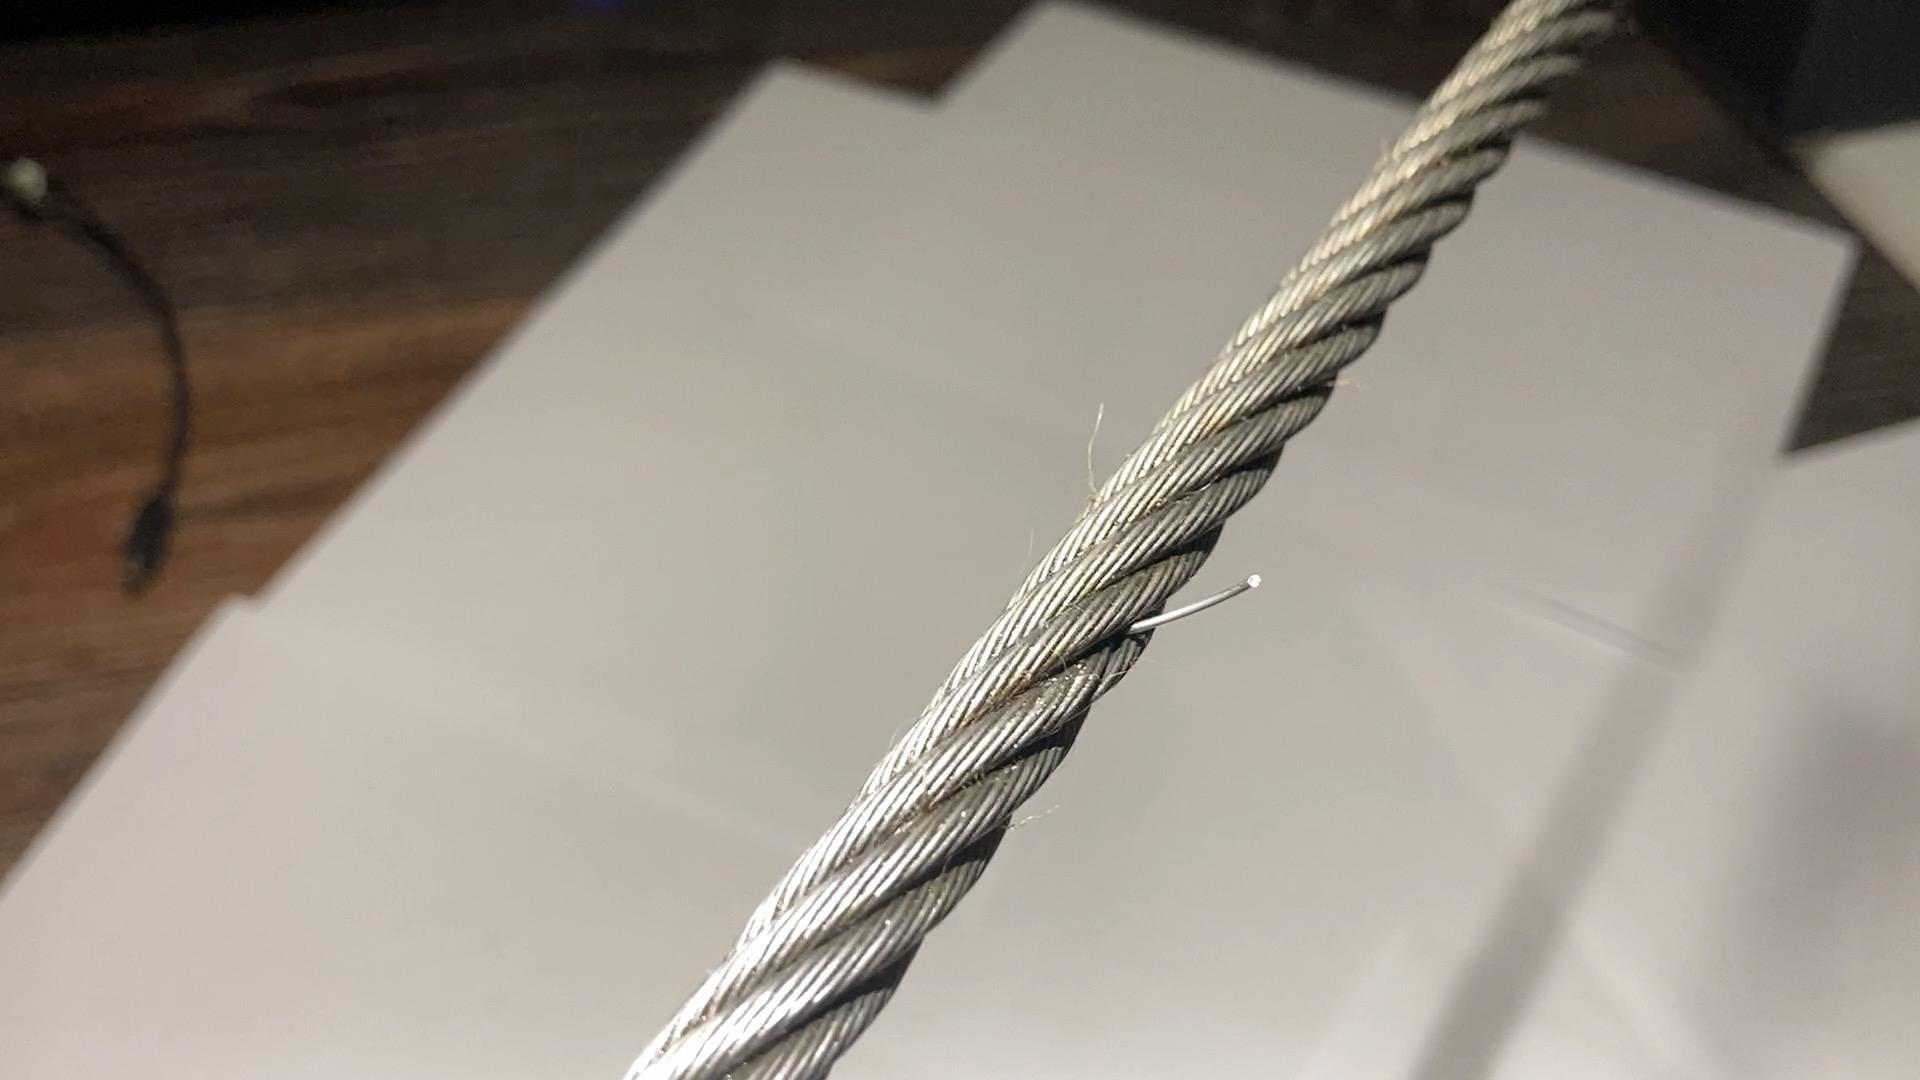break: (1116, 587, 1284, 641)
